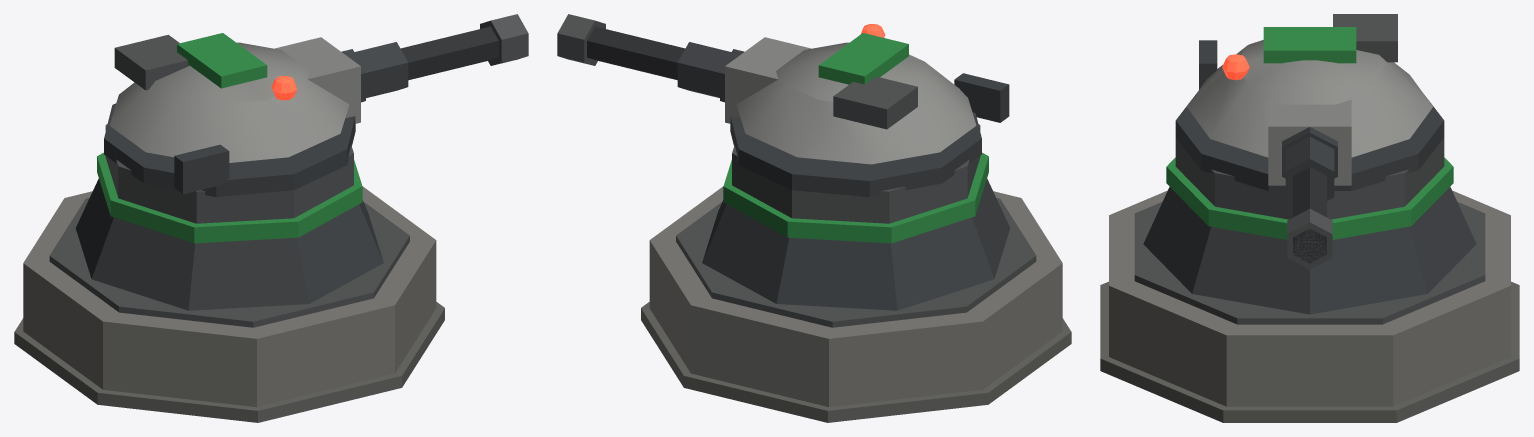
Rendered from turret_lod1.glb.
3 views of the same model, side by side, from view 1: azimuth 30°, elevation 25°; view 2: azimuth 150°, elevation 25°; view 3: azimuth 270°, elevation 25° (orthographic). The views are drawn at different scales.
Parts seen in each view (by area): view 1: Turret_LOD1_Foundation, Turret_LOD1_head, Turret_LOD1_Frame, Turret_LOD1_Details; view 2: Turret_LOD1_Foundation, Turret_LOD1_head, Turret_LOD1_Frame, Turret_LOD1_Details; view 3: Turret_LOD1_Foundation, Turret_LOD1_head, Turret_LOD1_Frame, Turret_LOD1_Details.
Boxes of the visible parts, x1=… form: Turret_LOD1_Foundation: x1=14, y1=186, x2=444, y2=422; Turret_LOD1_head: x1=104, y1=14, x2=528, y2=197; Turret_LOD1_Frame: x1=75, y1=124, x2=383, y2=310; Turret_LOD1_Details: x1=97, y1=152, x2=362, y2=243; Turret_LOD1_Foundation: x1=641, y1=186, x2=1071, y2=422; Turret_LOD1_head: x1=557, y1=14, x2=1009, y2=197; Turret_LOD1_Frame: x1=702, y1=124, x2=1010, y2=310; Turret_LOD1_Details: x1=723, y1=152, x2=988, y2=243; Turret_LOD1_Foundation: x1=1100, y1=190, x2=1519, y2=422; Turret_LOD1_head: x1=1175, y1=14, x2=1444, y2=269; Turret_LOD1_Frame: x1=1143, y1=137, x2=1476, y2=314; Turret_LOD1_Details: x1=1166, y1=157, x2=1453, y2=239.
Bounding box in the file's own units: 1.2 × 0.695 × 0.9054.
